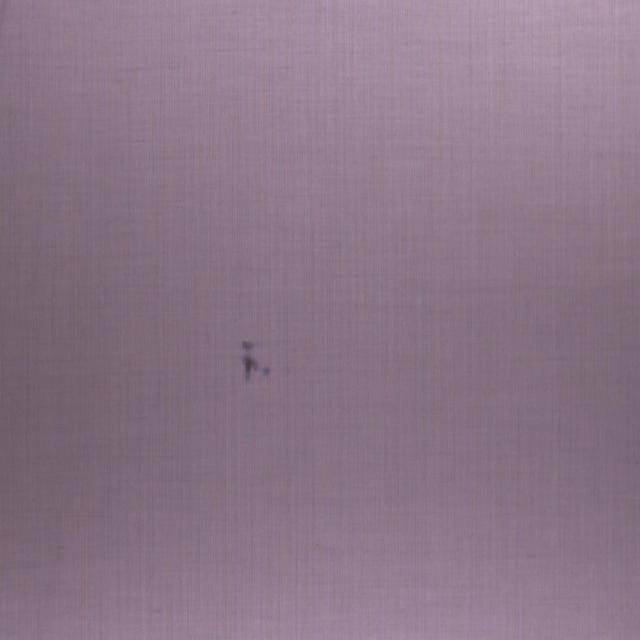dirty: (242, 334, 270, 384)
